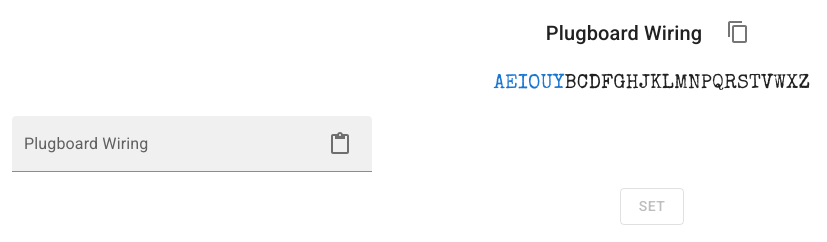
it: PlugboardSetup › Can update plugboard wiring
Expected: the text "AEIOUY" is shown, [494,69,564,94]
Expected: the text "BCDFGHJKLMNPQRSTVWXZ" is shown, [564,69,810,94]
Type "noktyuxeqlhbrmpdicjasvwgzf" into the field labelled "Plugboard Wiring". click: (162, 144)
box: [12,116,312,172]
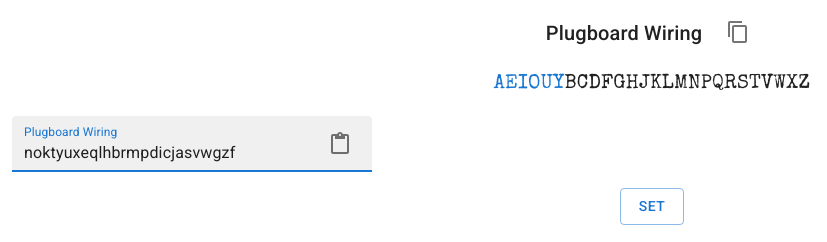
Result: the button "Set" is enabled
Click the button "Set". click: (652, 206)
box: [620,188,684,224]
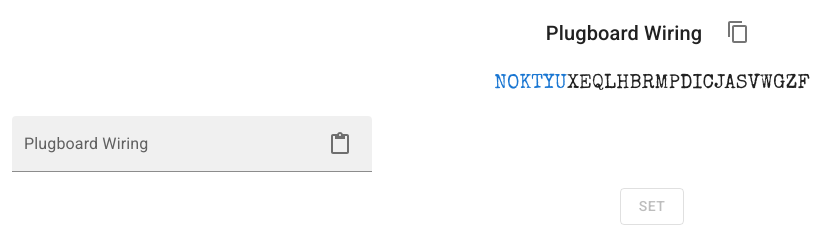
Result: the text "NOKTYU" is shown at [494,69,567,94]
Result: the text "XEQLHBRMPDICJASVWGZF" is shown at [567,69,810,94]
Result: the button "Set" is disabled at [620,188,684,224]
